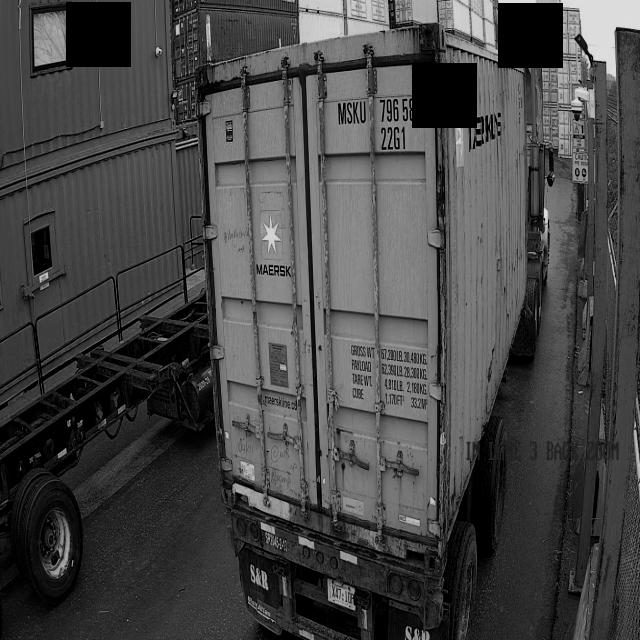container_company_logo: (257, 209, 293, 281)
container_number: (338, 89, 434, 150)
license_plate: (329, 577, 357, 607)
other_container_info: (340, 333, 424, 407)
truck_trailer: (0, 275, 228, 603)
truck_with_container: (214, 26, 555, 640)
